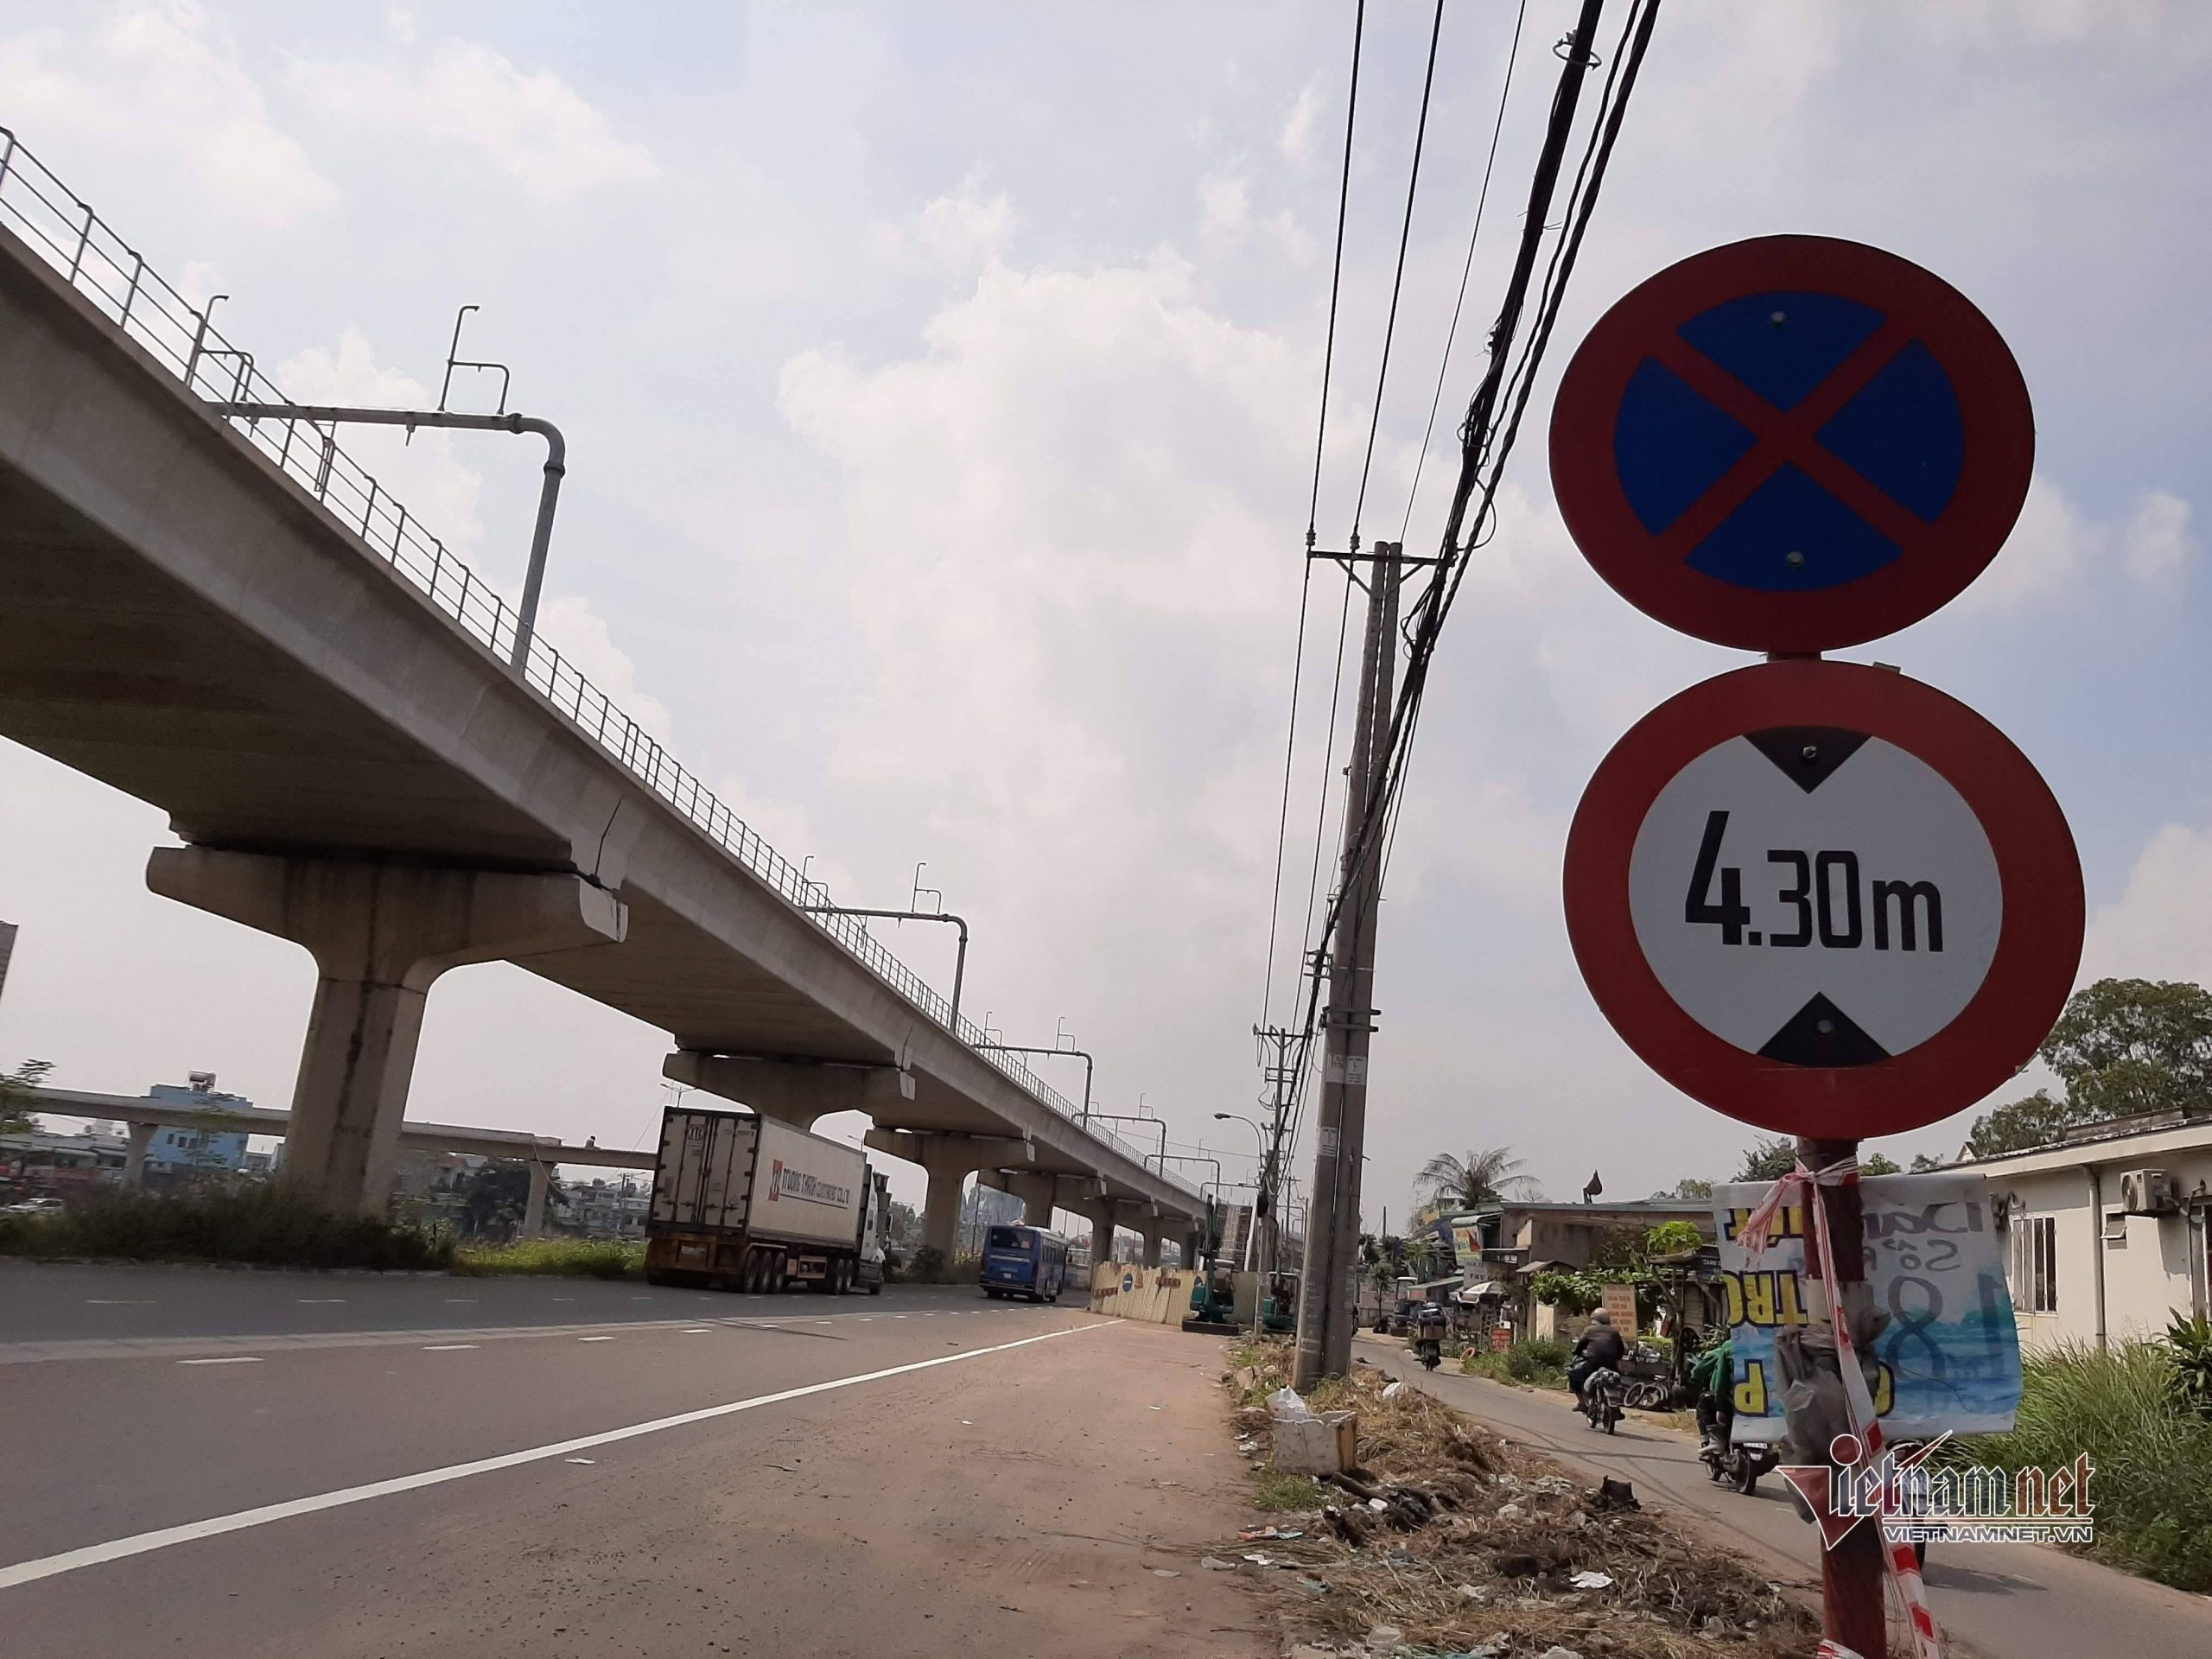Bien khac: (1566, 660, 2085, 1140), (1548, 234, 2040, 657)
